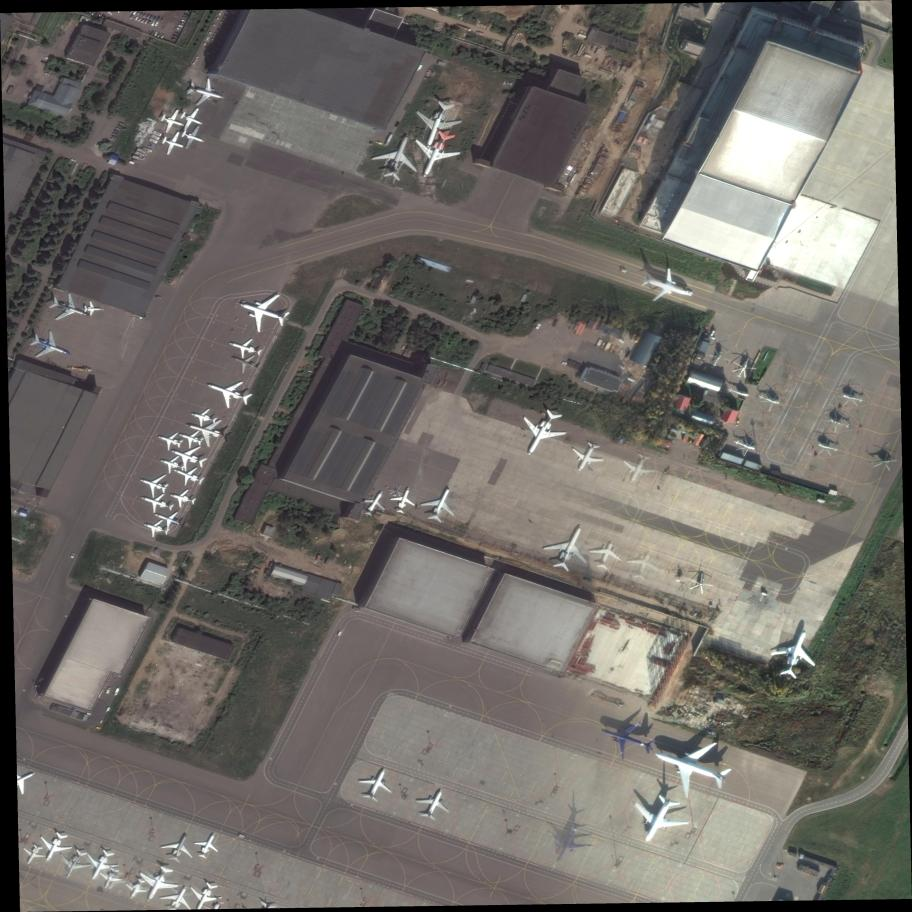plane: (640, 723, 741, 809), (620, 786, 697, 855), (507, 397, 575, 469), (402, 120, 468, 190), (536, 512, 602, 582), (763, 619, 828, 688), (591, 709, 663, 768), (405, 93, 467, 158), (367, 123, 428, 189), (229, 283, 297, 340), (536, 813, 601, 872), (634, 260, 700, 314), (128, 858, 184, 909), (415, 477, 466, 531), (178, 409, 236, 454), (200, 370, 257, 415), (24, 325, 78, 370), (353, 759, 401, 809), (43, 287, 95, 331), (411, 781, 458, 825), (182, 72, 230, 114), (50, 843, 96, 886), (30, 826, 77, 868), (78, 844, 123, 887), (156, 827, 202, 868), (615, 448, 661, 489), (620, 545, 666, 586), (564, 437, 609, 478), (165, 437, 211, 477), (583, 535, 629, 575), (134, 465, 173, 503), (223, 330, 266, 364), (386, 480, 422, 520), (190, 825, 226, 864), (135, 486, 177, 519), (168, 459, 208, 491), (358, 484, 391, 522), (150, 504, 189, 535), (727, 431, 765, 462), (156, 104, 189, 139), (177, 120, 210, 154), (227, 348, 263, 378), (176, 103, 208, 136), (158, 128, 189, 160), (153, 426, 187, 455), (138, 515, 173, 542), (157, 450, 189, 479), (187, 402, 220, 430), (120, 874, 151, 903), (175, 424, 207, 452), (166, 484, 199, 511), (95, 864, 126, 892), (17, 840, 48, 868), (81, 301, 103, 317)
small-vehicle: (113, 686, 121, 696), (416, 63, 423, 72), (105, 685, 111, 695), (337, 629, 343, 637), (105, 706, 111, 713), (761, 592, 769, 597), (619, 268, 627, 273), (69, 158, 77, 162), (154, 295, 162, 299), (43, 72, 50, 76), (82, 163, 89, 167), (118, 121, 125, 125), (112, 132, 119, 136), (109, 137, 116, 141), (115, 126, 121, 130), (113, 128, 119, 132), (111, 134, 117, 138), (117, 124, 123, 127)
